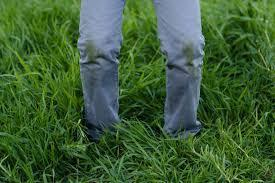earth: (86, 40, 94, 63), (184, 44, 191, 67)
